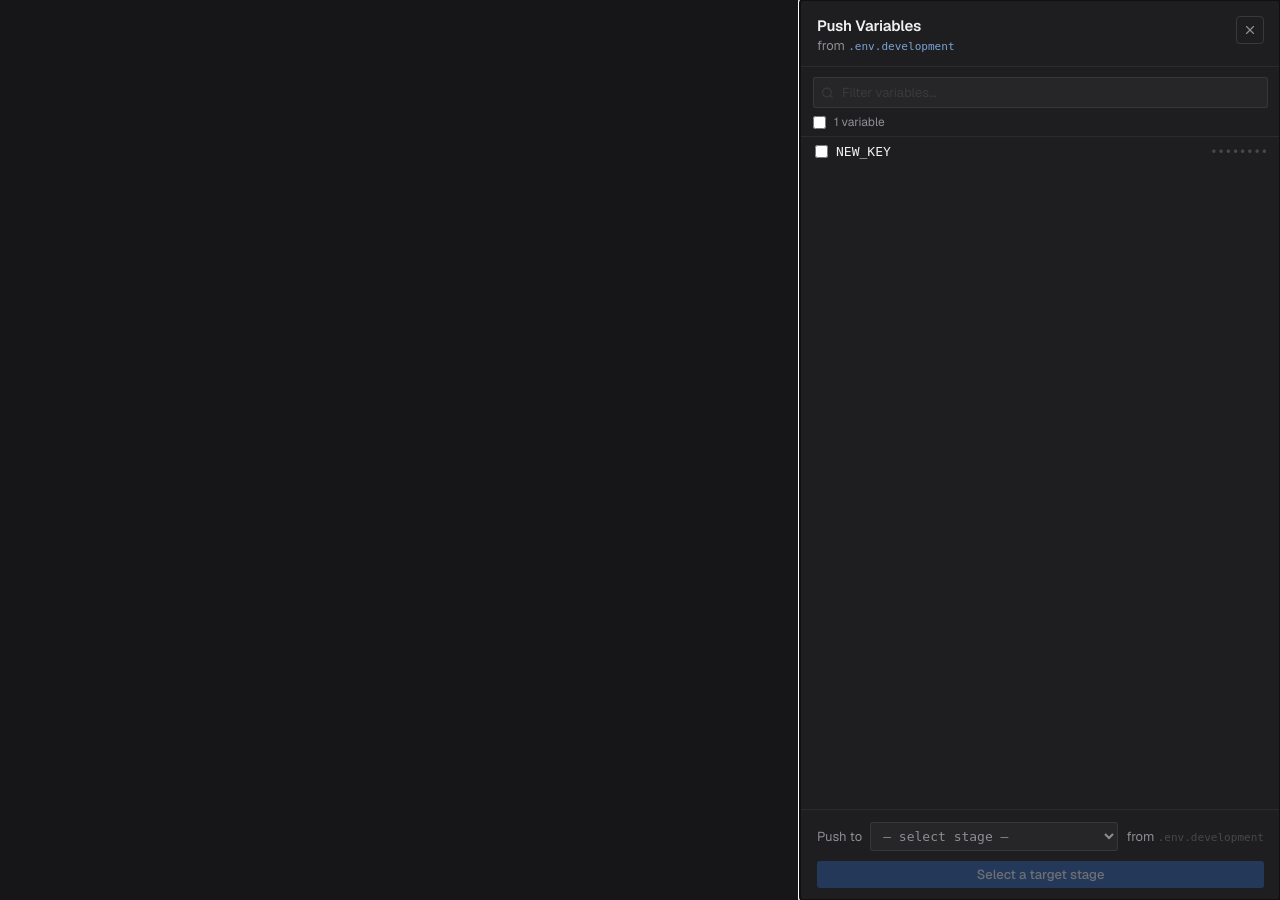
Test: PushToStagePanel › Summary bar › shows correct new count after stage selection
This screenshot has width=1280, height=900.
Step 1. Click the row "NEW_KEY ••••••••" → point(863, 152), box [815, 144, 1268, 159]
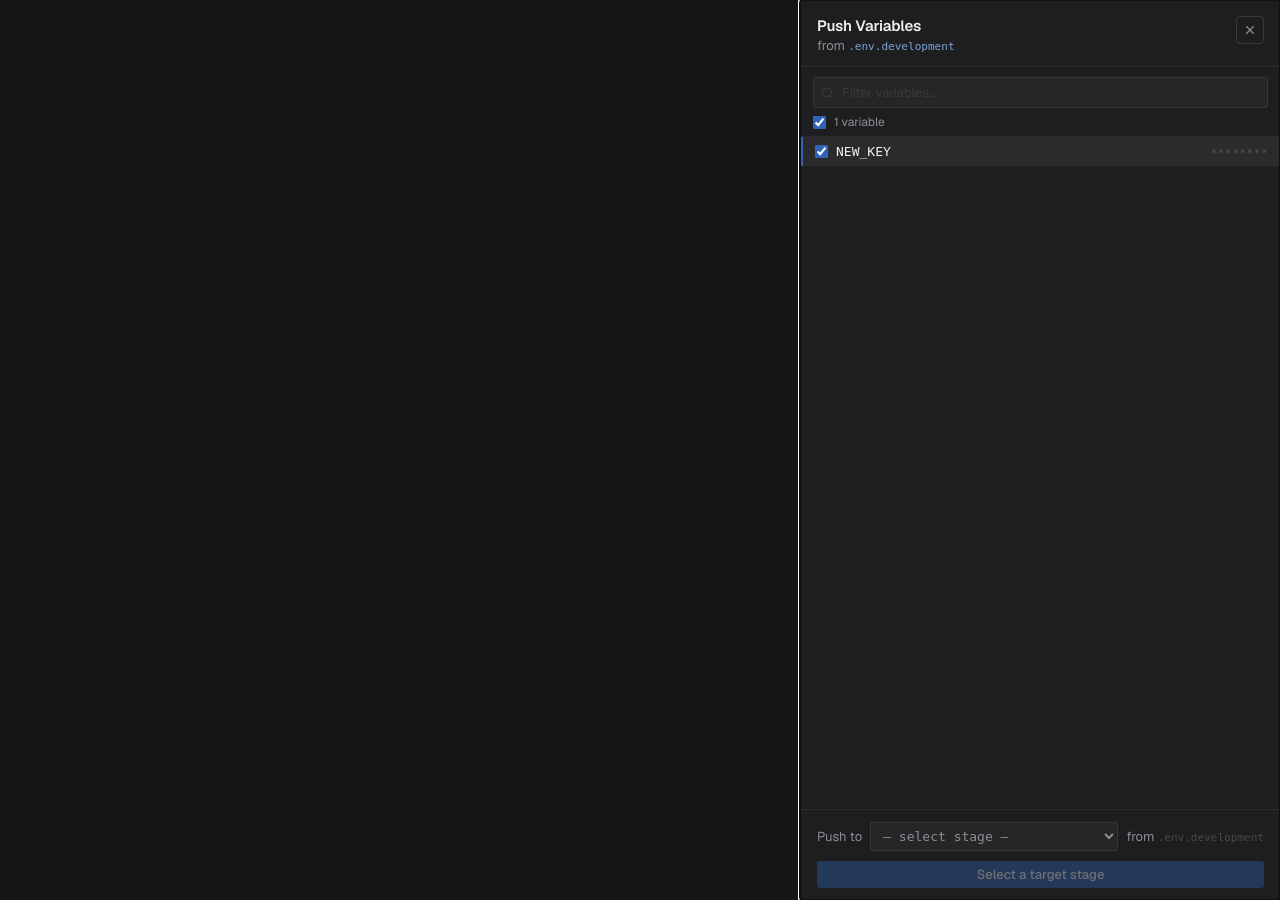
Step 2. Select ".env.staging (empty)" in the dropdown with test id "stage-selector" → point(994, 836), box [870, 822, 1118, 851]
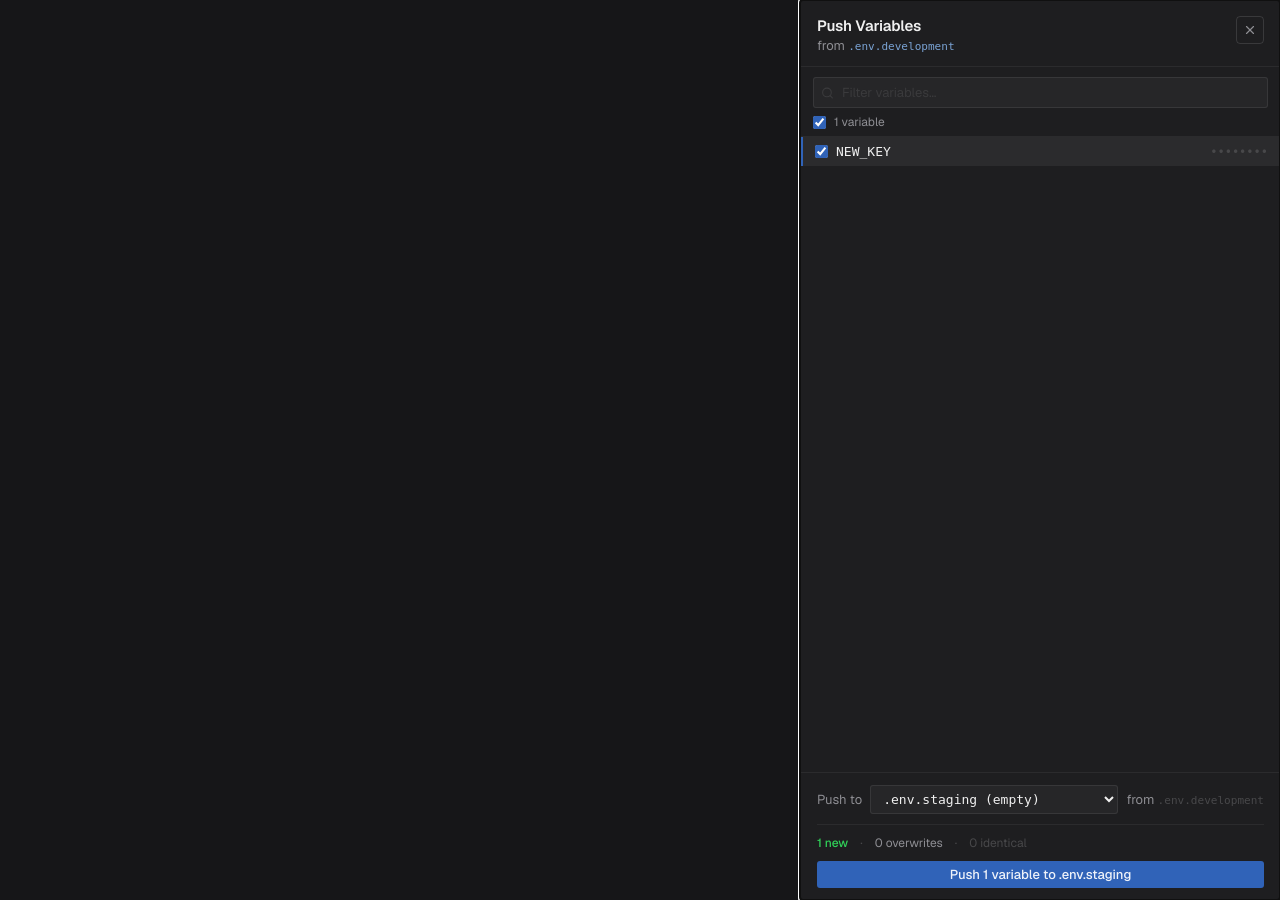
Check: the element with test id "summary-bar" shows "1 new", box [817, 835, 1027, 851]
